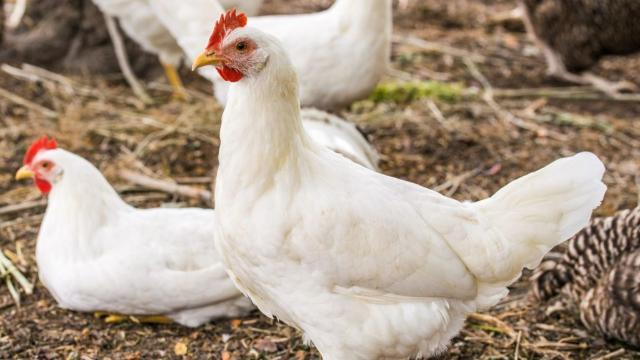Chicken: (191, 7, 609, 360), (16, 137, 258, 326), (151, 1, 392, 104), (533, 202, 640, 351), (91, 1, 189, 104)
